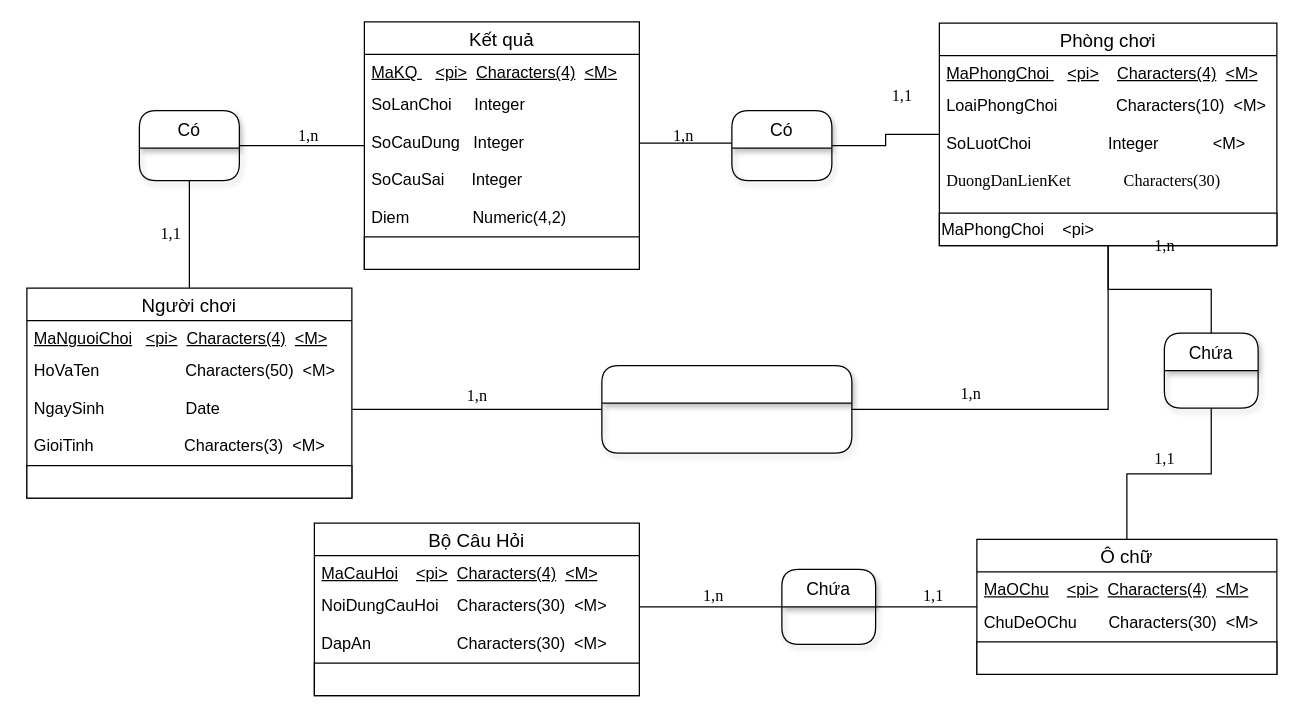
This 1305x718 diagram has some shape labels left out. Each missing label, with the centre of its shape:
"MaCauHoi <pi>" belongs at pixel 476 679.
"MaKQ <pi>" belongs at pixel 501 252.
"MaNguoiChoi <pi>" belongs at pixel 189 481.
"MaOChu <pi>" belongs at pixel 1126 657.
"Tham gia" belongs at pixel 727 410.
